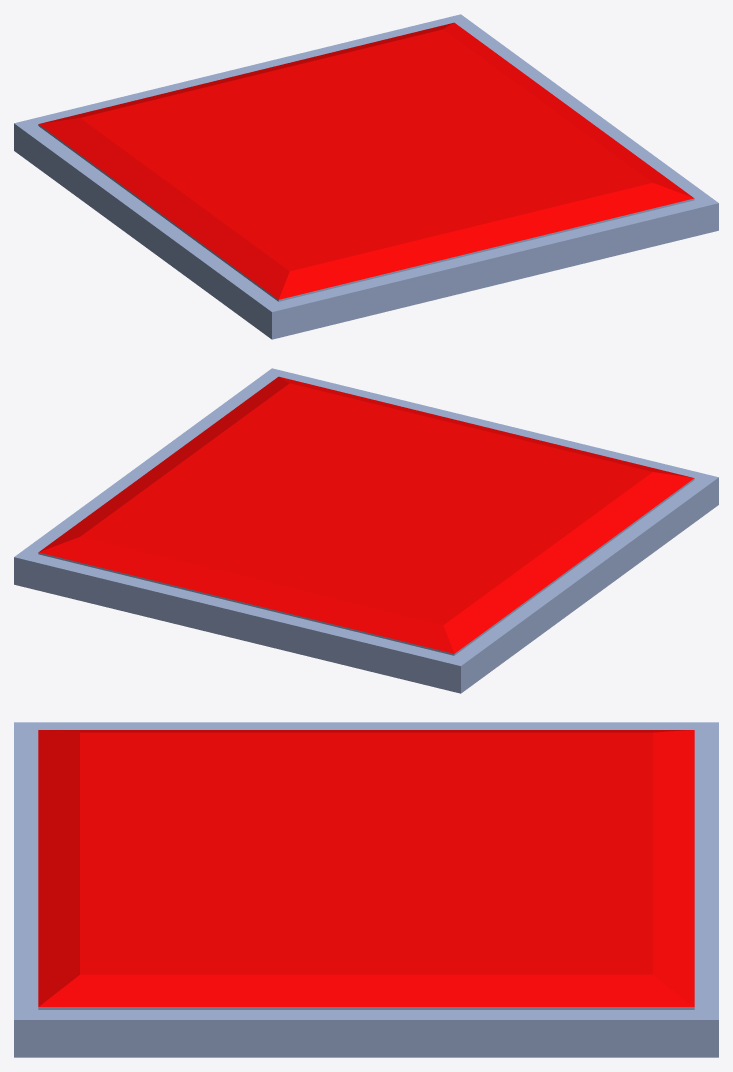
The model's file is JumppadBase.fbx.
3 renders of one model, top to bottom at view 1: azimuth 30°, elevation 25°; view 2: azimuth 150°, elevation 25°; view 3: azimuth 270°, elevation 25°, orthographic. The views are drawn at different scales.
Visible parts, largest first — view 1: Cube; view 2: Cube; view 3: Cube.
Boxes of the visible parts, x1=… form: Cube: x1=14, y1=14, x2=718, y2=339; Cube: x1=14, y1=368, x2=718, y2=693; Cube: x1=14, y1=722, x2=718, y2=1057.
Size of the model in its own units: 444 by 38.31 by 444.
1 material, 1 textured.
